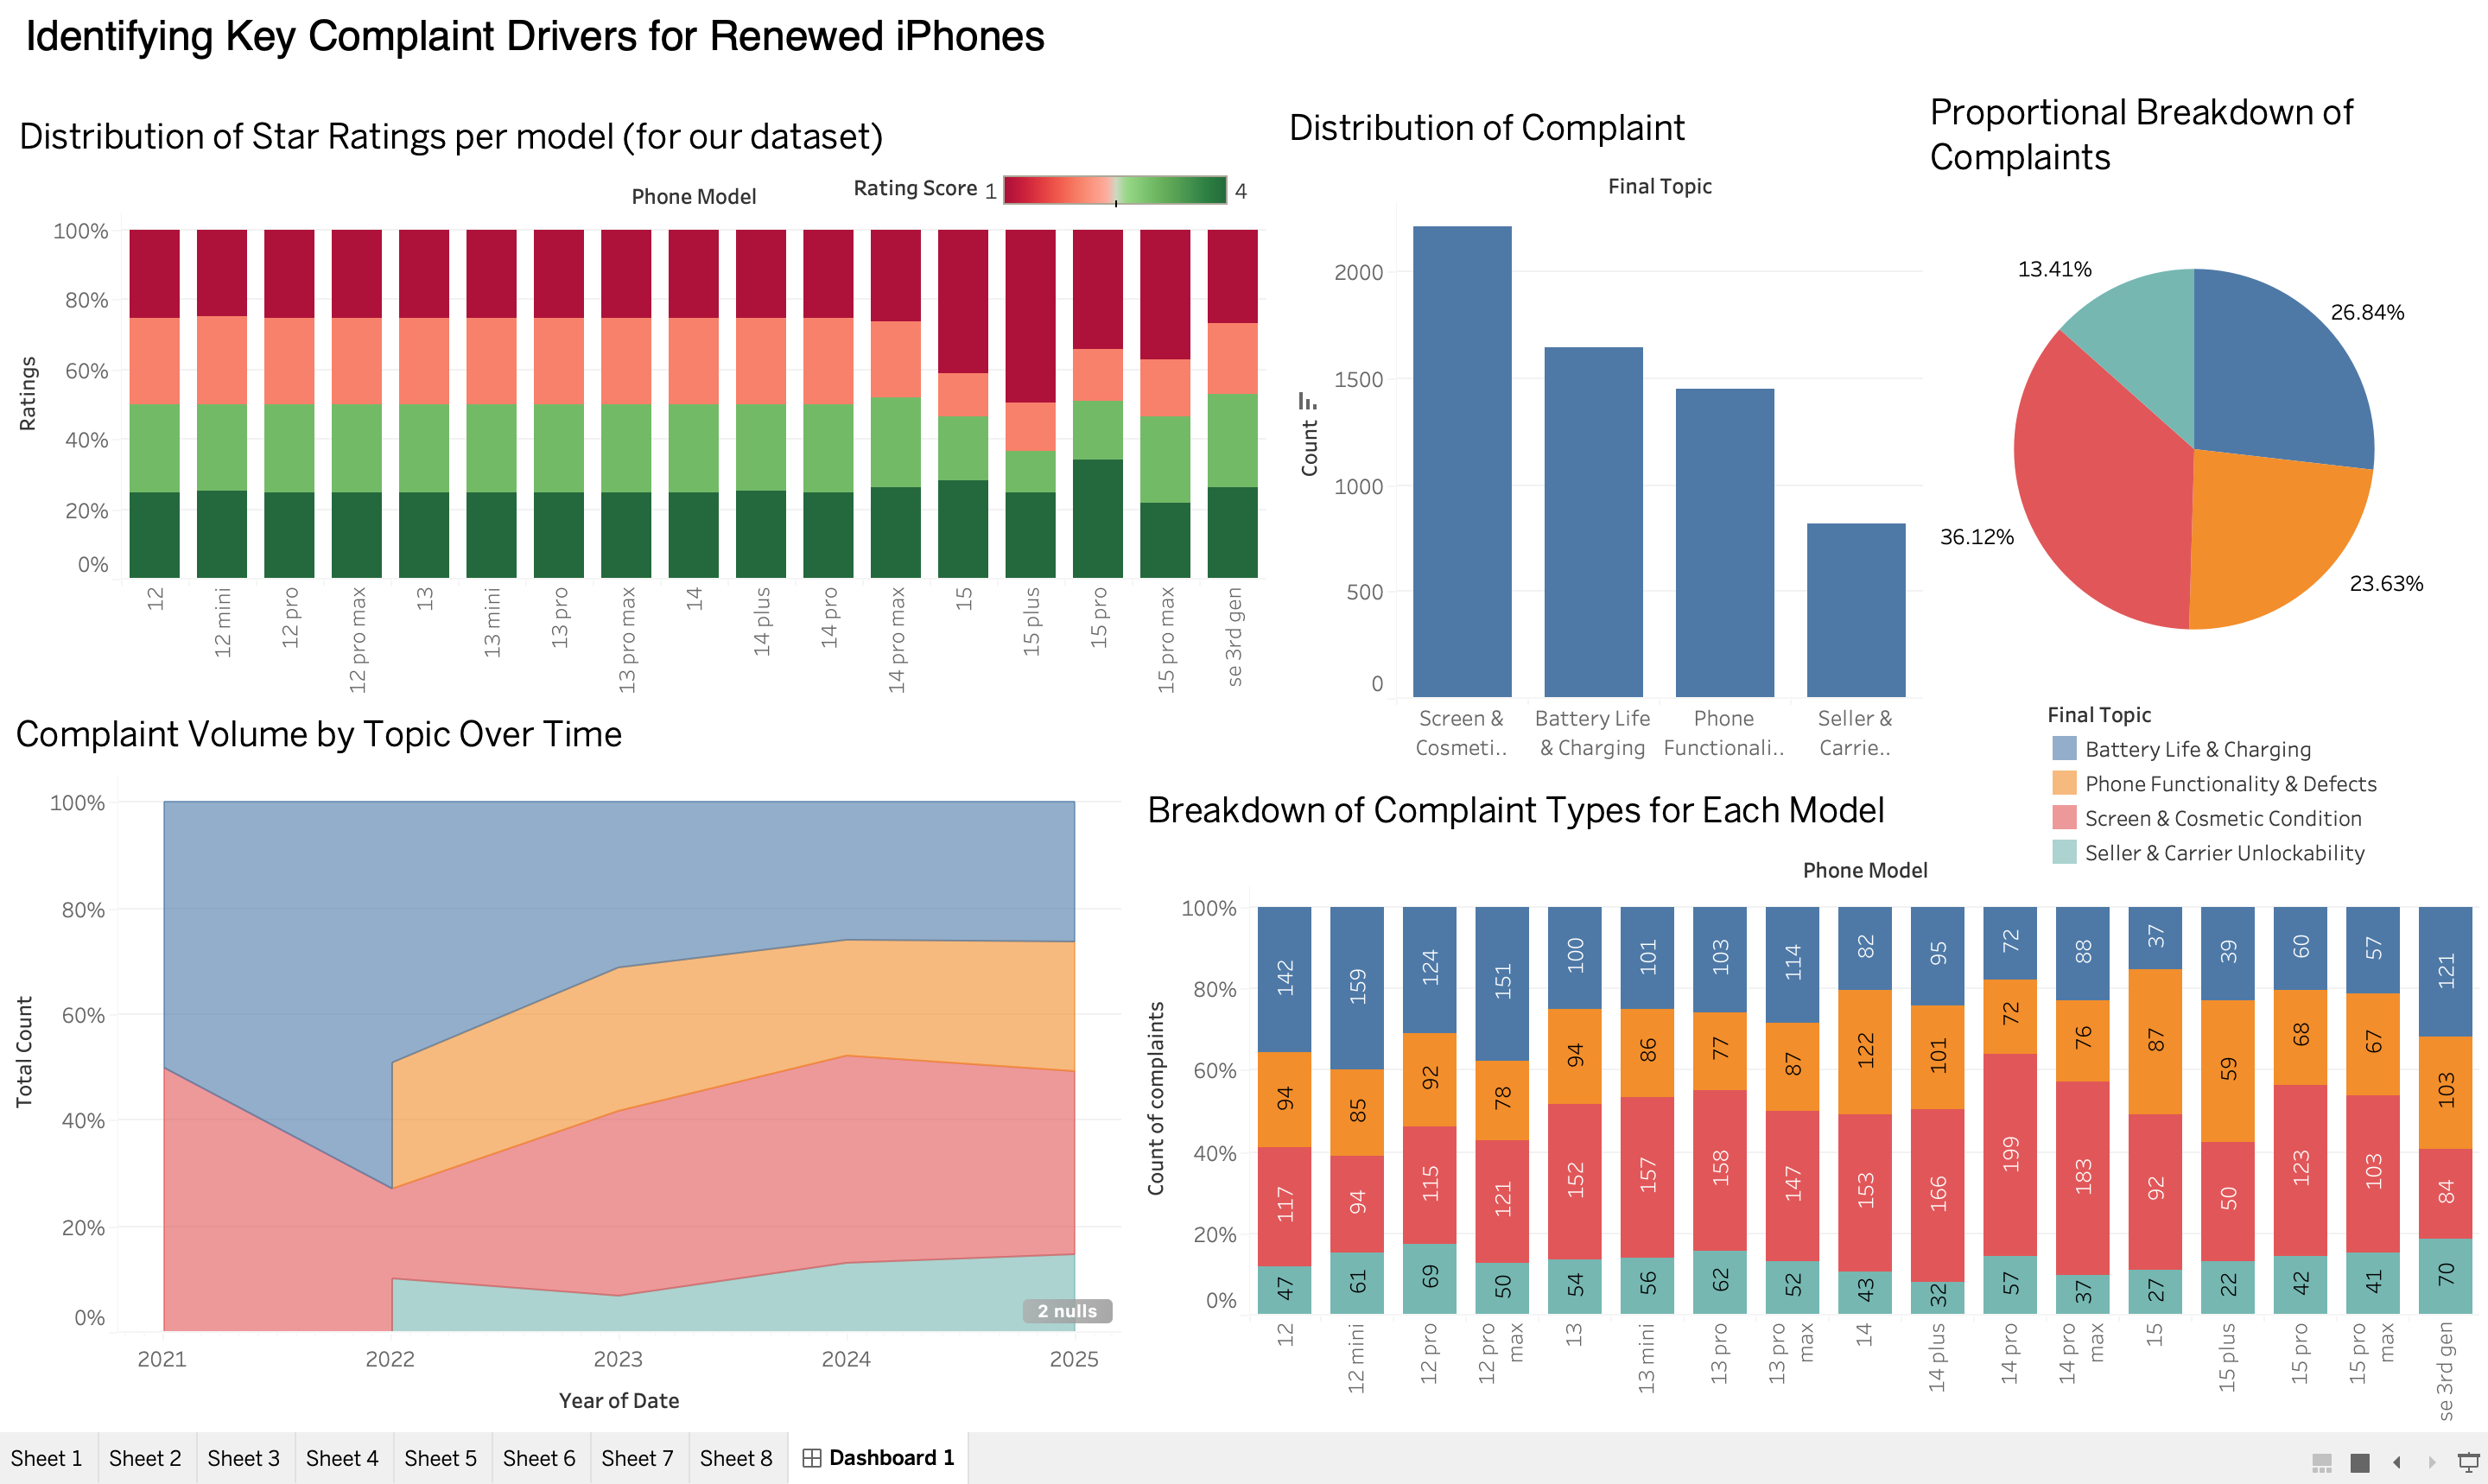

The page's visual inventory and layout, read from the dashboard file:
{"tool":"tableau","page":{"name":"Dashboard 1","canvas":[1000,1000],"units":"permille","ordinal":0},"visuals":[{"type":"title","box":[6.5,10.4,987,41.7]},{"type":"worksheet","title":"Sheet 2","mark":"Pie","box":[773,58.6,218.1,429.7]},{"type":"worksheet","title":"Sheet 1","mark":"Automatic","rows":["dashboard_ready_data.csv_B38BA18D6B454ACE9A420E0065C7907D"],"cols":["final_topic"],"box":[515,70.3,257.9,466.2]},{"type":"worksheet","title":"Sheet 5","mark":"Automatic","cols":["Calculation_100556971031543809"],"box":[4.9,75.5,504.5,425.8]},{"type":"legend","title":"Sheet 5","param":"[federated.1mf78hi1ex3jng1btt0pn013t43u].[none:ratingScore:qk]","box":[343.4,119.8,161.9,36.5]},{"type":"legend","title":"Sheet 4","param":"[federated.1mf78hi1ex3jng1btt0pn013t43u].[none:final_topic:nk]","box":[822.6,489.6,170.1,130.2]},{"type":"worksheet","title":"Sheet 4","mark":"Area","cols":["date"],"box":[3.2,492.2,447.5,503.9]},{"type":"worksheet","title":"Sheet 3","mark":"Automatic","cols":["Calculation_100556971031543809"],"box":[458.1,545.6,538.6,447.9]}]}

Visuals, with their boxes on the dashboard's canvas, which has no fixed pixel size, in thousandths of its width and height (x1, y1, x2, y2). These are canvas units, not pixel positions in the 2488x1484 screenshot, which may show the page scaled, cropped or inside an application window:
title: region(6, 10, 994, 52)
"Sheet 2" worksheet (Pie marks): region(773, 59, 991, 488)
"Sheet 1" worksheet: region(515, 70, 773, 536)
"Sheet 5" worksheet: region(5, 76, 509, 501)
"Sheet 5" legend: region(343, 120, 505, 156)
"Sheet 4" legend: region(823, 490, 993, 620)
"Sheet 4" worksheet (Area marks): region(3, 492, 451, 996)
"Sheet 3" worksheet: region(458, 546, 997, 994)
